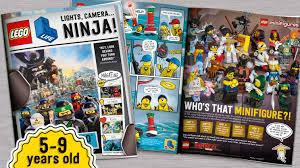Printing industry: (4, 5, 300, 167)
